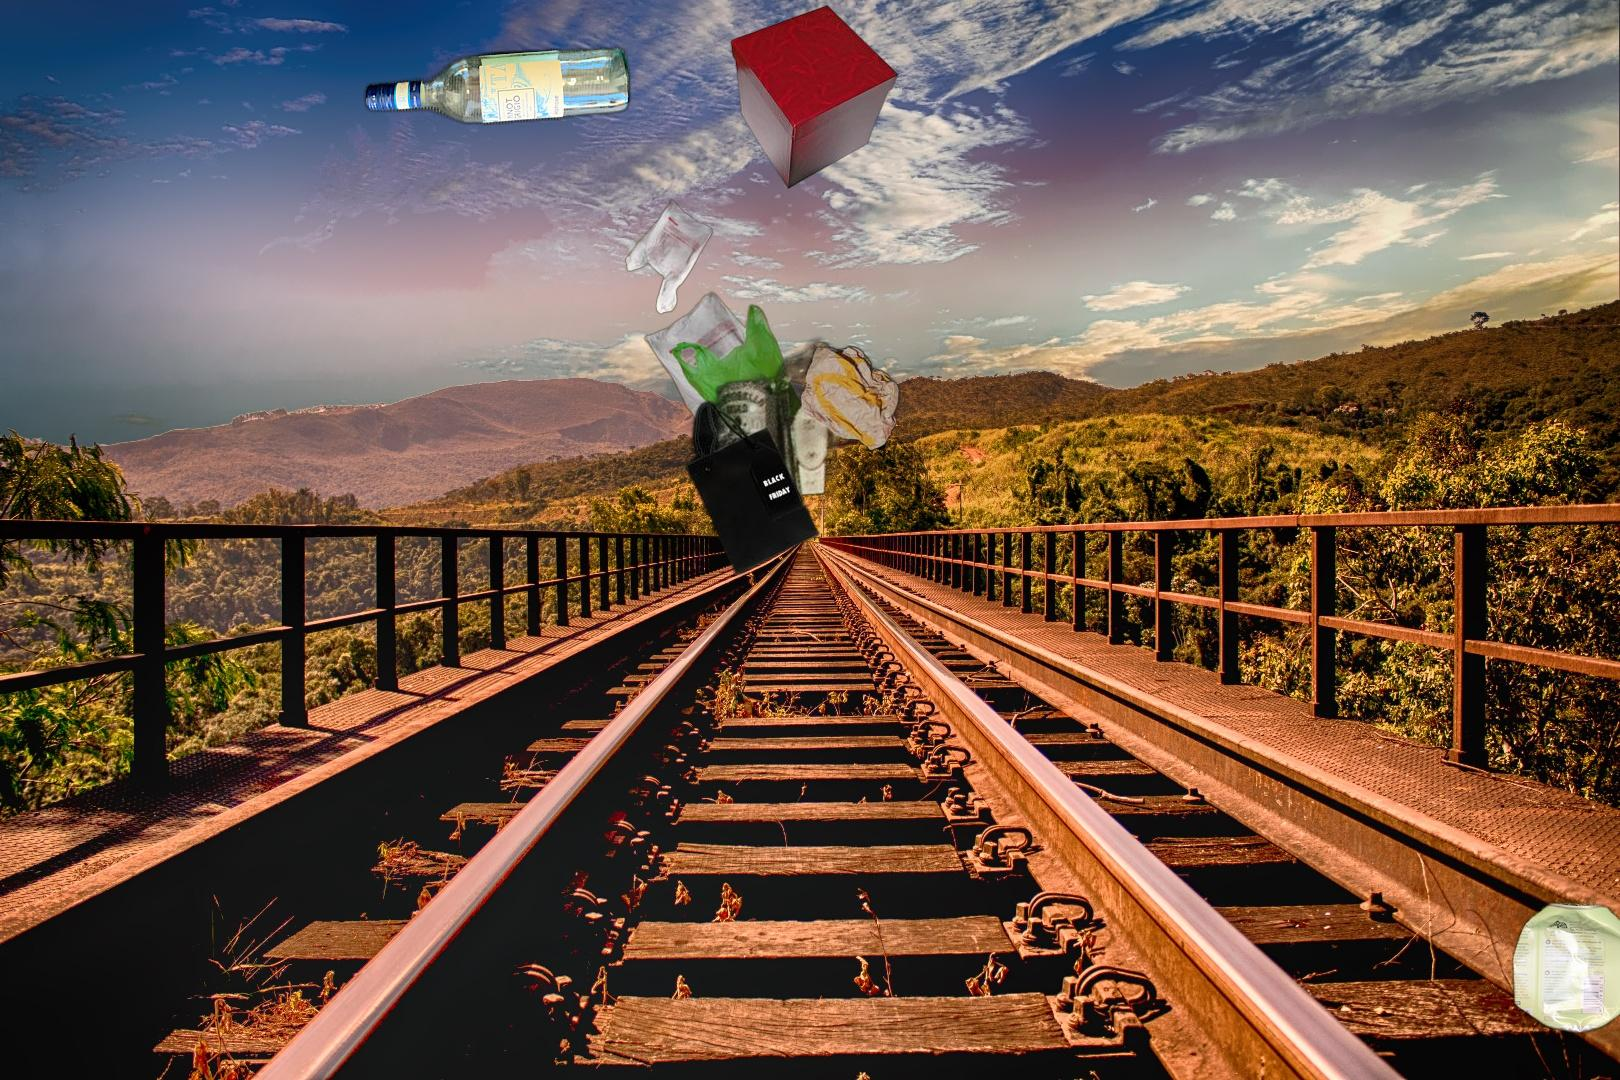glass: (360, 41, 635, 131)
metal-cans: (1508, 896, 1620, 1040)
paper-bag: (611, 317, 903, 592)
plastic-bag: (612, 182, 817, 452)
trashbox-cardboard: (727, 2, 902, 192)
